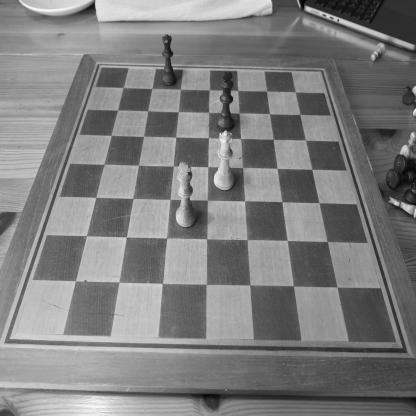black-king: (216, 71, 235, 132)
black-queen: (162, 34, 178, 86)
white-king: (176, 162, 198, 228)
white-knight: (387, 196, 416, 219)
white-pawn: (370, 42, 386, 63), (407, 131, 416, 152)
white-queen: (214, 130, 234, 191)
